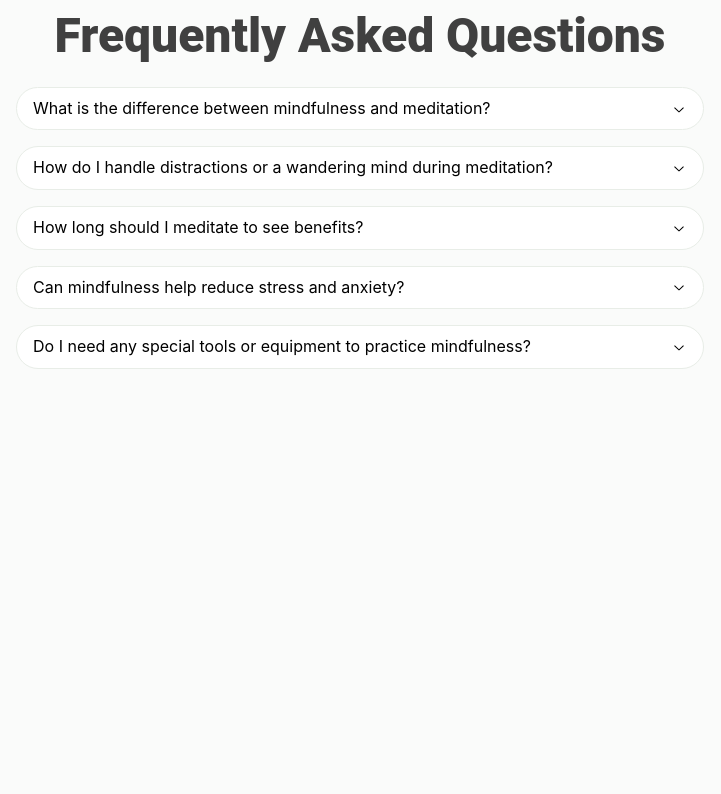
LandingFAQ › Accordion Interactions › collapses accordion item when clicked again
The image size is (721, 794).
Step 1. Click the button "What is the difference between mindfulness and meditation?" → click(360, 109), box [17,88,703,129]
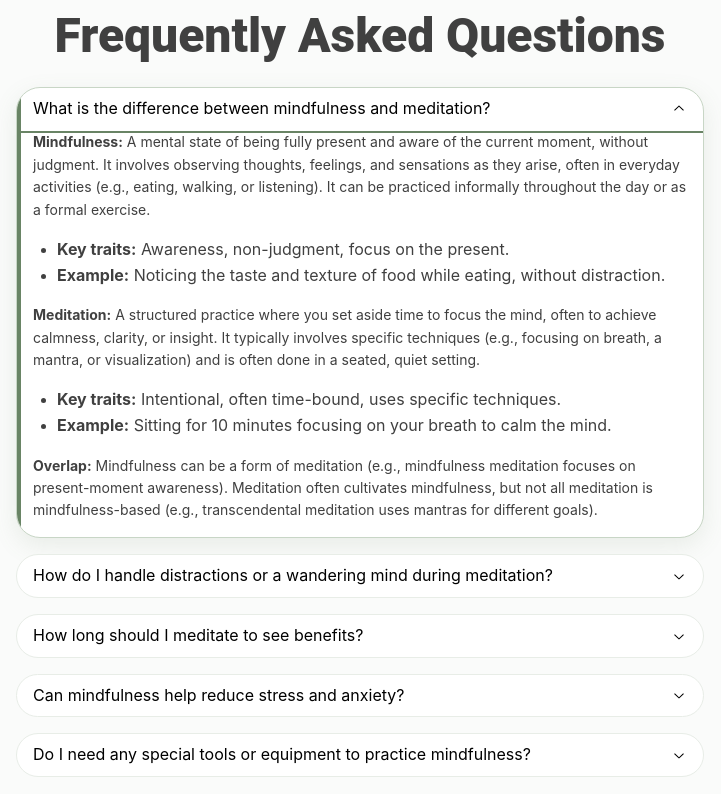
Expected: the text "A mental state of being fully present" is shown, [33,133,686,218]
Step 2. Click the button "What is the difference between mindfulness and meditation?" → click(360, 109), box [17,88,703,129]
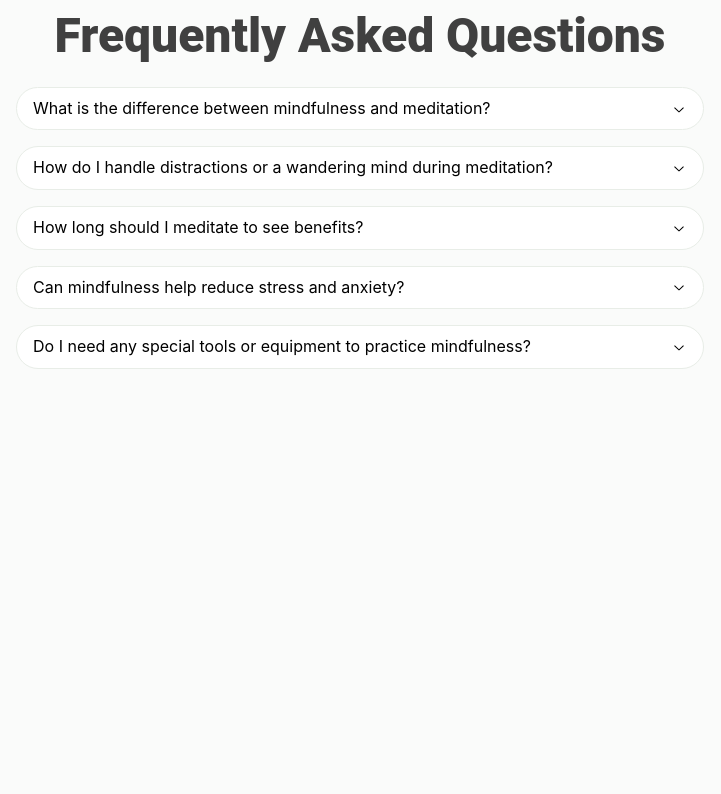
Expected: the text "A mental state of being fully present" is gone
